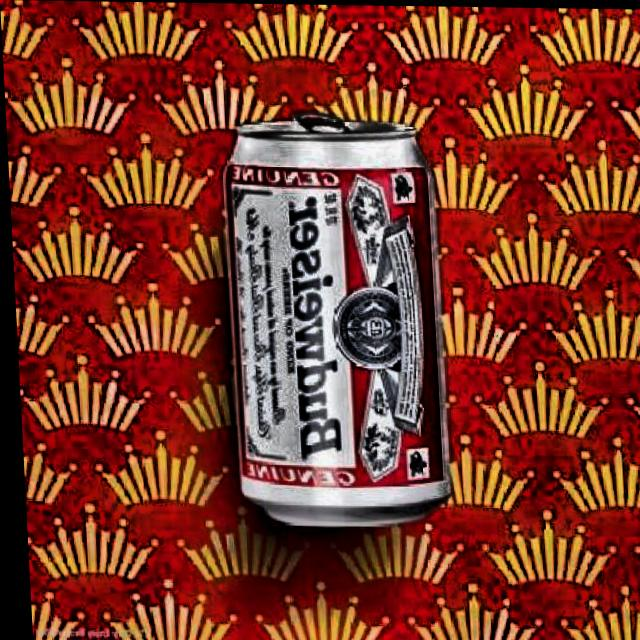can: (212, 103, 452, 544)
